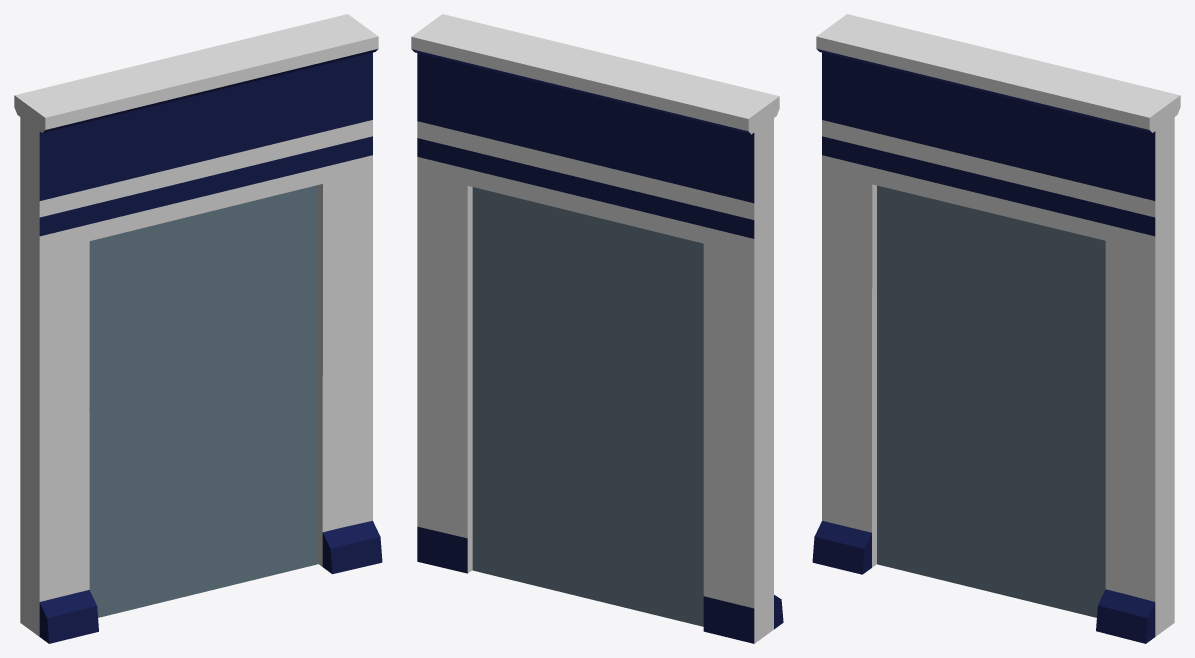
The model's file is wall_open_door_1.glb.
The picture shows the model from 3 angles, left to right: view 1: azimuth 30°, elevation 25°; view 2: azimuth 150°, elevation 25°; view 3: azimuth 330°, elevation 25°; orthographic projection.
Parts seen in each view (by area): view 1: Dormant, PorteD, PorteG; view 2: Dormant, PorteD, PorteG; view 3: Dormant, PorteG, PorteD.
Boxes of the visible parts, x1,y1,x2,y2 form: Dormant: (14, 14, 382, 643); PorteD: (201, 185, 317, 592); PorteG: (89, 214, 201, 617); Dormant: (411, 14, 783, 643); PorteD: (472, 187, 590, 599); PorteG: (590, 216, 703, 626); Dormant: (812, 14, 1180, 643); PorteG: (877, 185, 993, 592); PorteD: (993, 214, 1105, 617).
Size of the model in its own units: 2 by 3 by 0.36.
